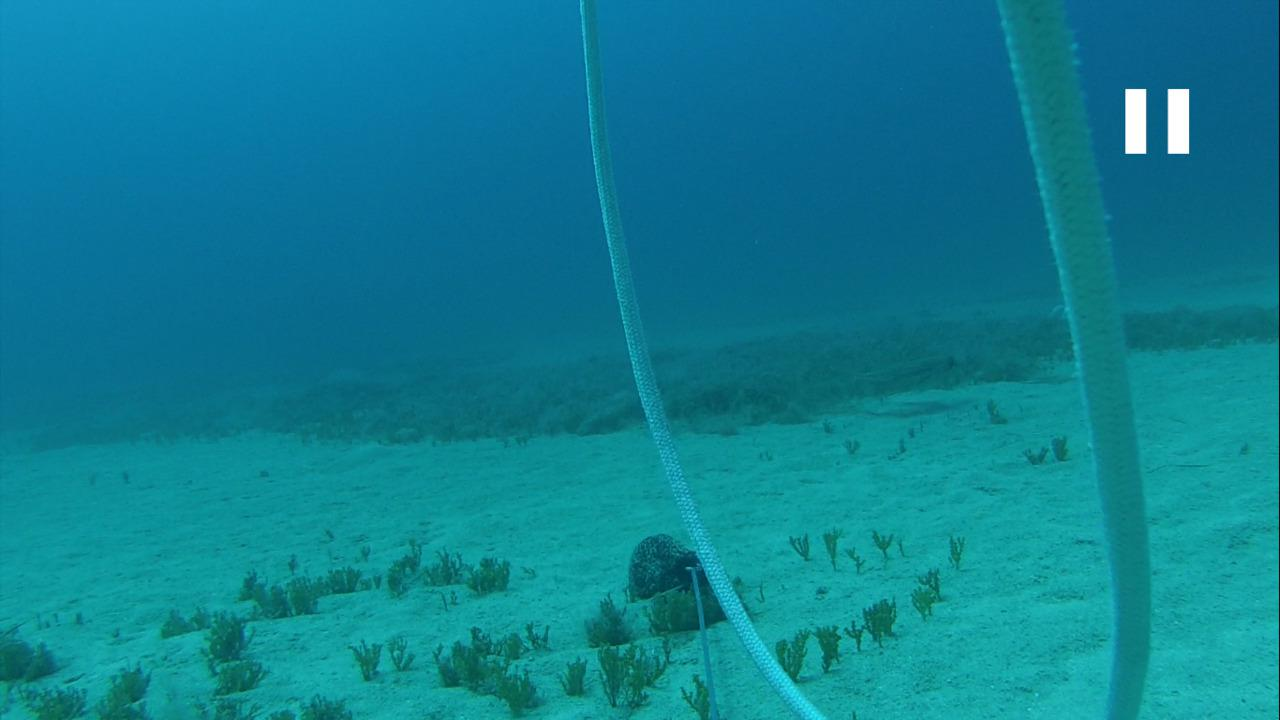dactylopterus: (821, 346, 967, 400)
